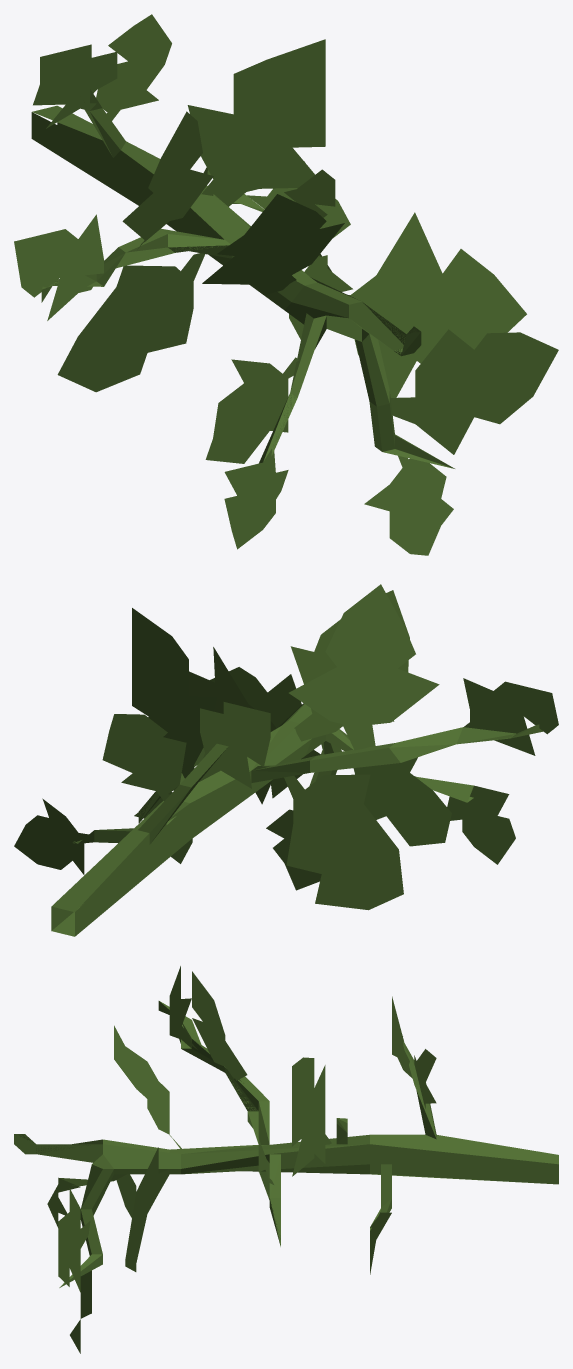
Rendered from stage_2.obj.
3 renders of one model, top to bottom at view 1: azimuth 30°, elevation 25°; view 2: azimuth 150°, elevation 25°; view 3: azimuth 270°, elevation 25°, orthographic. The views are drawn at different scales.
Visible parts, largest first — view 1: Tomato_Stage2_v3; view 2: Tomato_Stage2_v3; view 3: Tomato_Stage2_v3.
Boxes of the visible parts, x1=… form: Tomato_Stage2_v3: x1=14, y1=14, x2=558, y2=555; Tomato_Stage2_v3: x1=14, y1=584, x2=558, y2=936; Tomato_Stage2_v3: x1=14, y1=966, x2=558, y2=1353.
Bounding box in the file's own units: 0.222 × 0.192 × 0.294.
